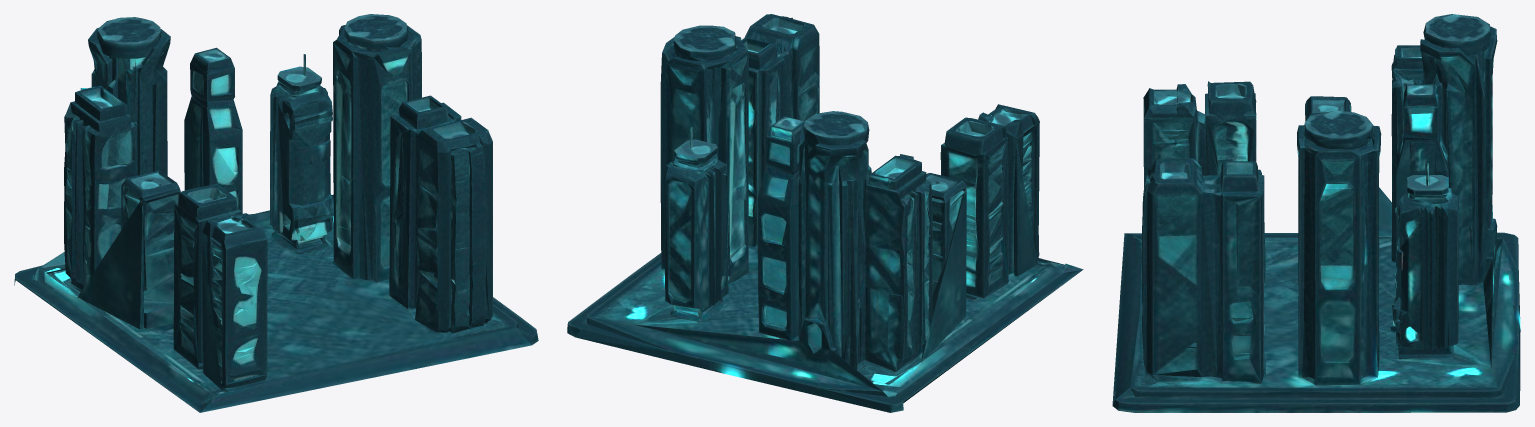
File: bg-skyline.glb
3 renders of one model, left to right at view 1: azimuth 30°, elevation 25°; view 2: azimuth 150°, elevation 25°; view 3: azimuth 270°, elevation 25°, orthographic. The views are drawn at different scales.
Size of the model in its own units: 1.9 by 1.34 by 1.9.
Materials: 1 (1 with a texture image).
